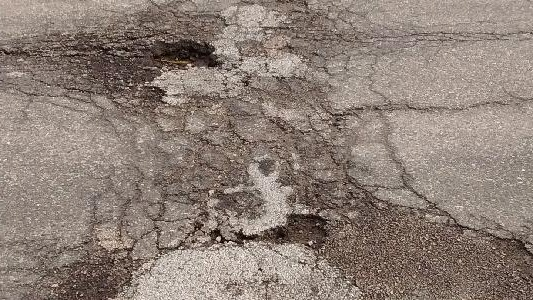pothole: (148, 37, 222, 71), (272, 210, 329, 251)
